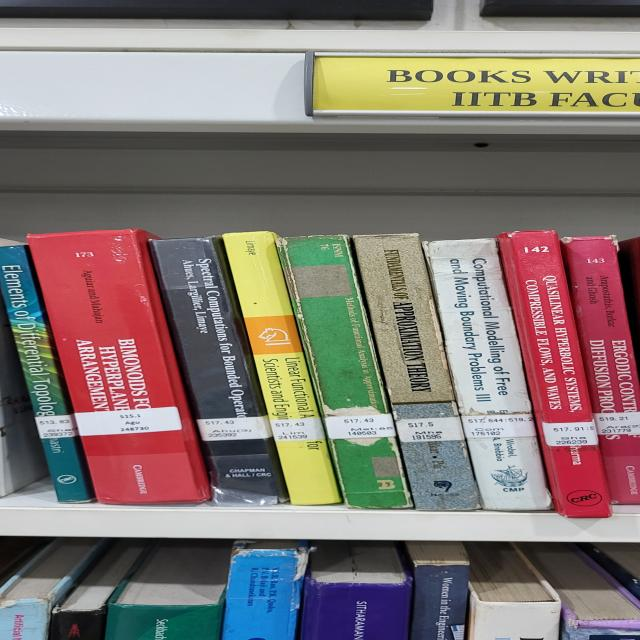Book: (27, 229, 211, 504), (276, 235, 411, 509), (152, 236, 287, 506), (352, 234, 479, 510), (425, 239, 552, 510), (222, 231, 341, 505), (498, 231, 611, 518), (0, 240, 95, 502), (563, 238, 640, 505), (547, 386, 549, 388)
Label: (76, 406, 181, 436), (198, 416, 271, 441), (395, 416, 465, 442), (463, 414, 536, 438), (325, 414, 395, 439), (541, 421, 598, 446), (271, 418, 325, 441), (595, 411, 640, 435), (35, 415, 76, 439)
